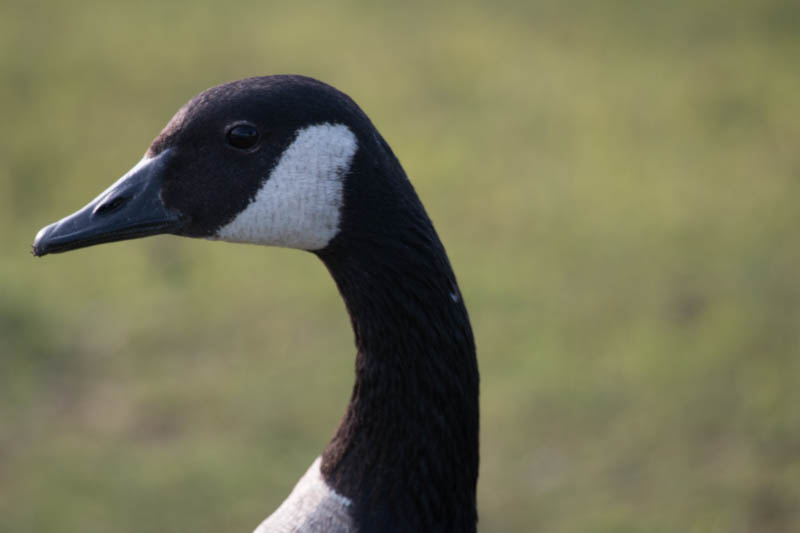goose-head: (30, 73, 446, 258)
